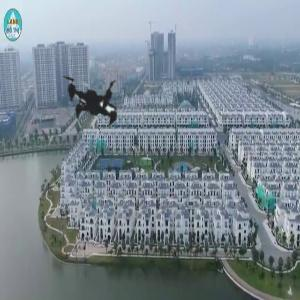drone: (4, 9, 198, 203)
